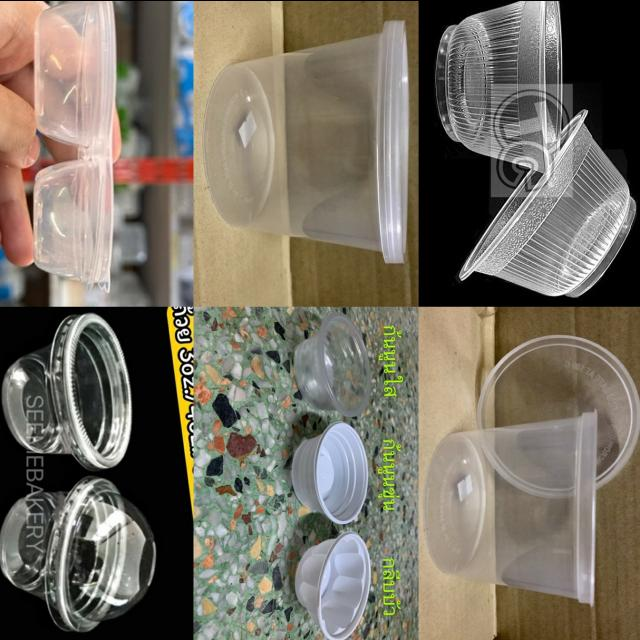plastik: (206, 20, 409, 263), (459, 110, 636, 297), (425, 412, 596, 601), (477, 334, 640, 497), (0, 475, 156, 631), (33, 0, 116, 290), (435, 0, 562, 171), (2, 313, 132, 470), (296, 530, 371, 640), (295, 311, 371, 416), (292, 421, 368, 522)
